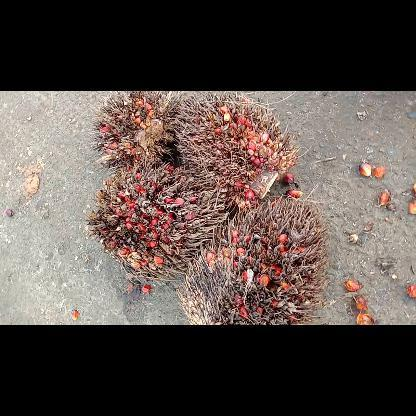Terlalu masak: (176, 192, 336, 324), (80, 159, 232, 283), (172, 90, 302, 212), (86, 90, 188, 176)
